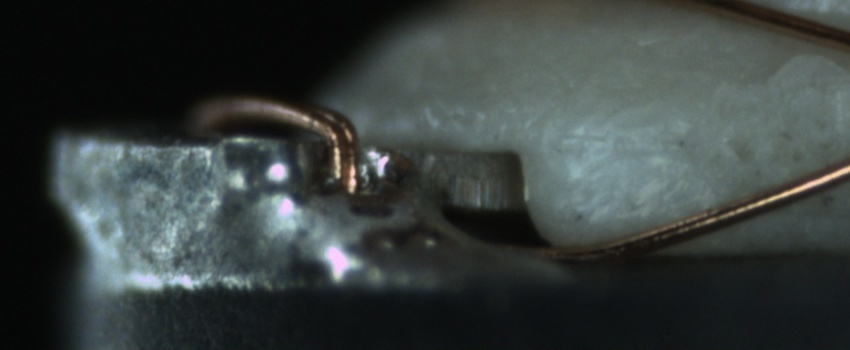DL: (561, 113, 699, 177)
TE: (187, 87, 369, 205)
